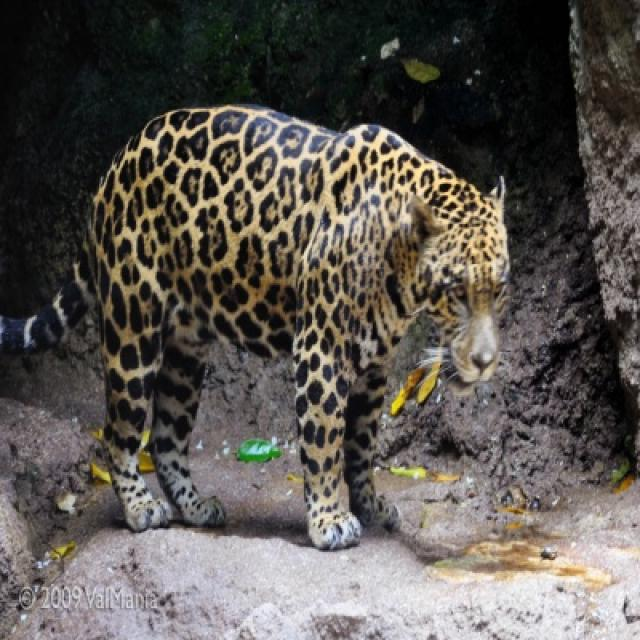Jaguar: (74, 106, 510, 552)
